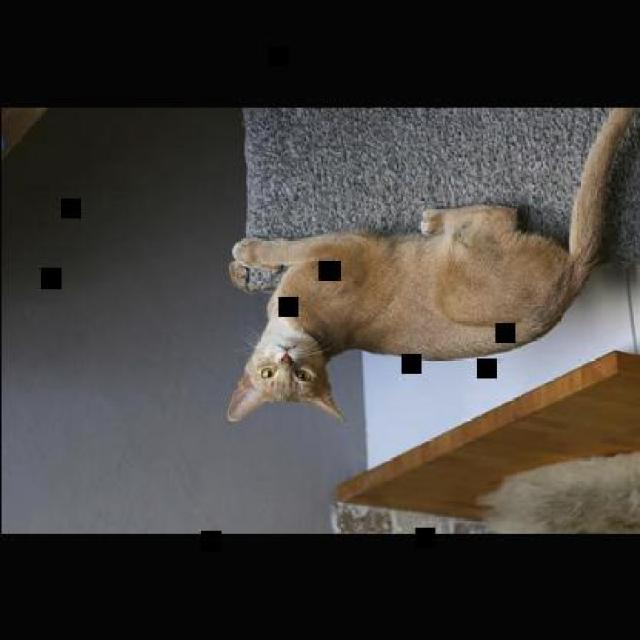unauthorized: (225, 106, 637, 423)
